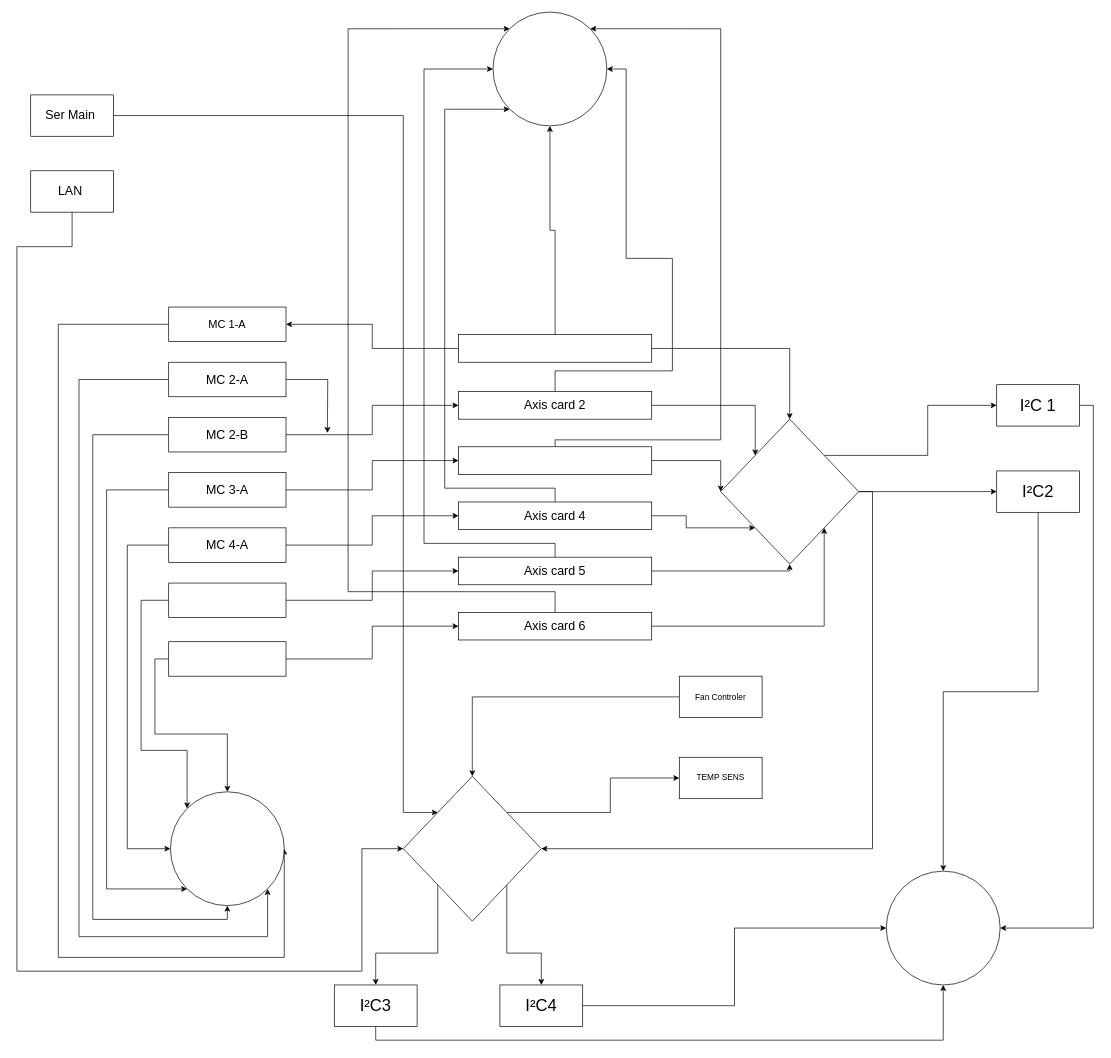
The diagram is 1111 pixels wide and 1058 high, and some of its shapes have lost their labels. The shapes that lost their labels are listed below. From the top down, each one's centre as x and y in pixels, then its label:
[549,68]: Industry-Standard M12-Stecker GPIO 20 pin
[555,348]: Axis card 1
[555,460]: Axis card 3
[789,491]: Managment Consol ost MCS
[227,600]: MC 5-A
[227,658]: MC 6-A
[227,848]: HIGH Ampere OUT MC
[472,848]: Managment Consol South MCS
[943,927]: Industry-Standard M12-Stecker I²C
